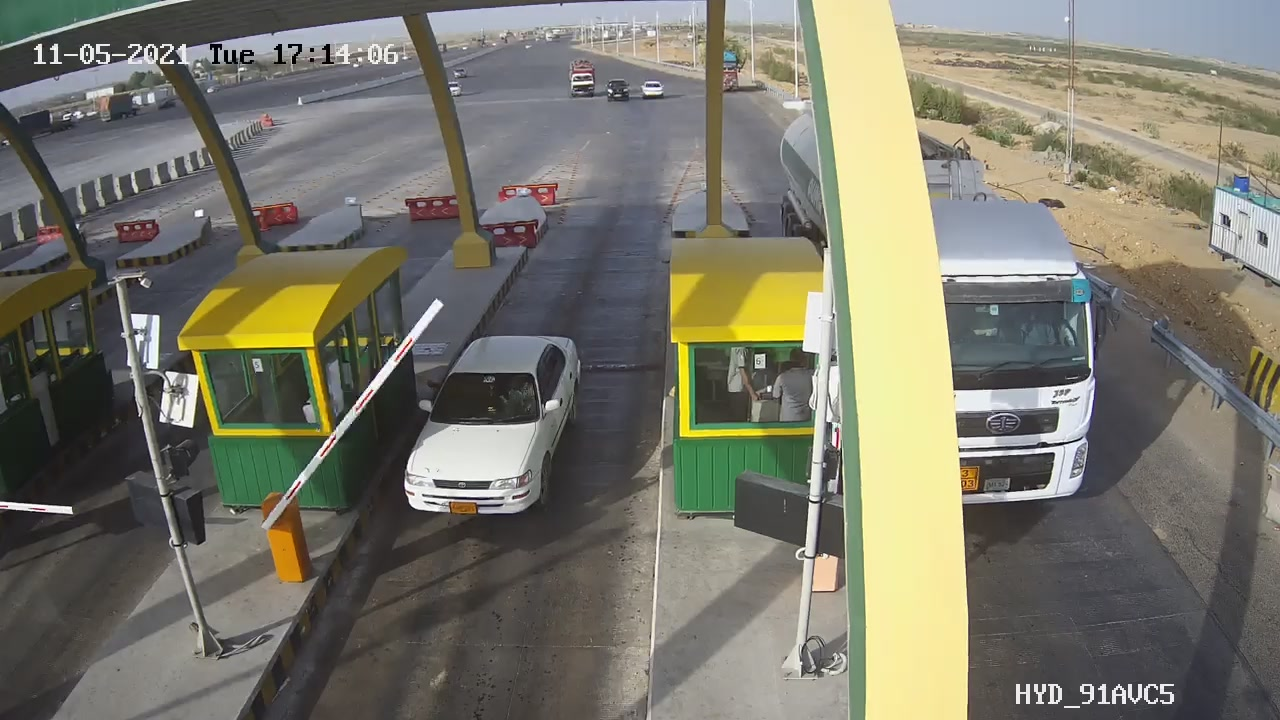F1: (382, 321, 607, 544)
